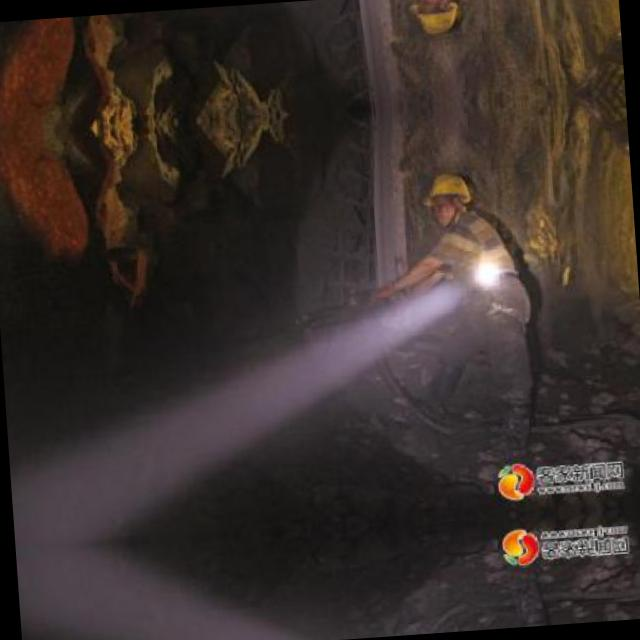helmet: (421, 164, 476, 226), (408, 0, 465, 39)
